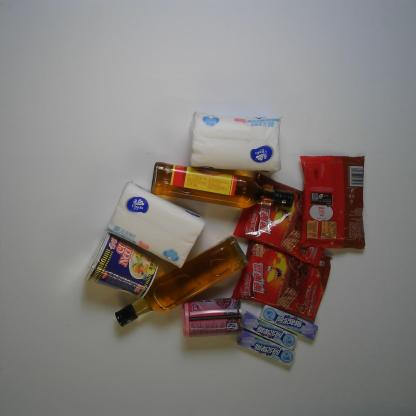Candy: (240, 310, 298, 351), (258, 303, 320, 341), (235, 328, 297, 366)
Canned Food: (179, 296, 244, 341)
Dessert: (231, 170, 330, 267), (230, 238, 334, 326), (298, 152, 367, 252)
Instant Noodles: (82, 228, 160, 300)
Seasoner: (114, 234, 249, 329), (149, 161, 295, 211)
Tissue: (104, 180, 206, 270), (189, 111, 285, 176)
